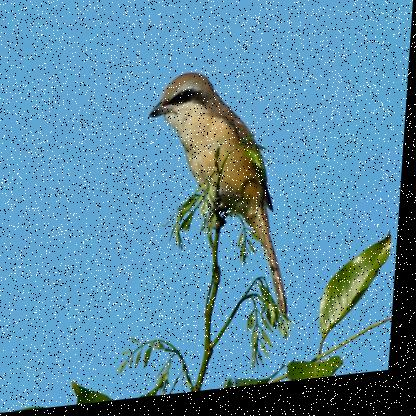Burung: (136, 65, 308, 338)
